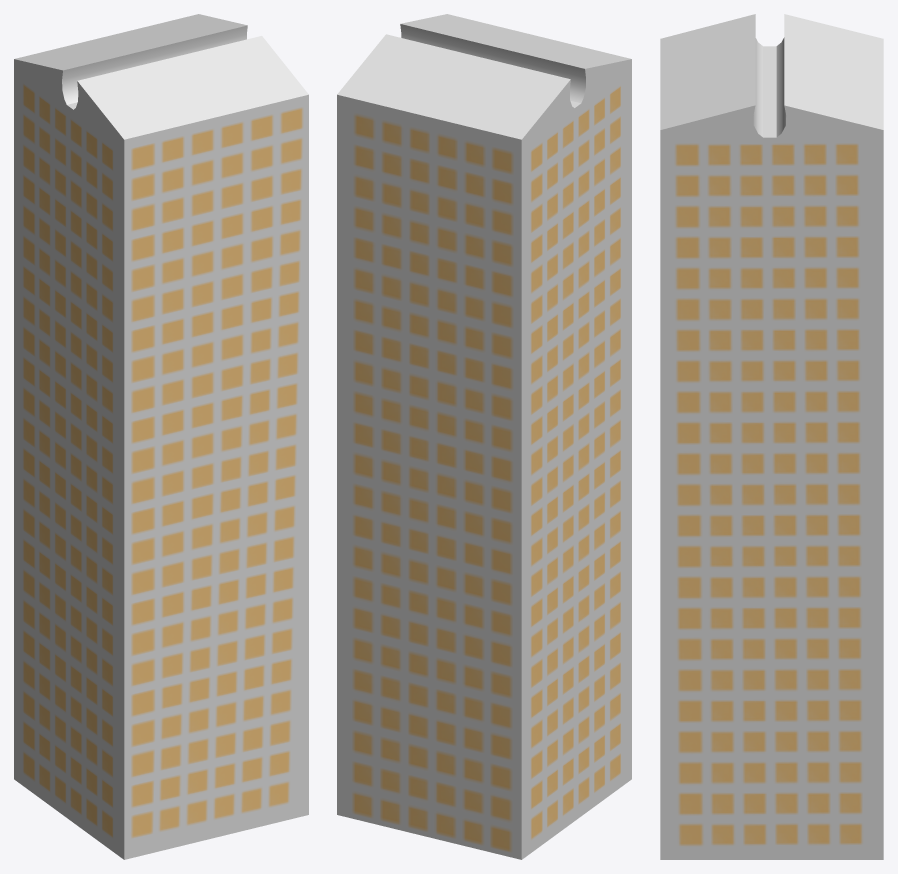
The model's file is st1Whole.fbx.
The picture shows the model from 3 angles, left to right: view 1: azimuth 30°, elevation 25°; view 2: azimuth 150°, elevation 25°; view 3: azimuth 270°, elevation 25°; orthographic projection.
Visible parts, largest first — view 1: SonyTower1; view 2: SonyTower1; view 3: SonyTower1.
Part boxes in pixels (<box>): SonyTower1: <box>14,14,308,859</box>; SonyTower1: <box>337,14,631,859</box>; SonyTower1: <box>660,14,883,859</box>.
Size of the model in its own units: 0.0992 by 0.3821 by 0.1025.
1 material, 1 textured.
